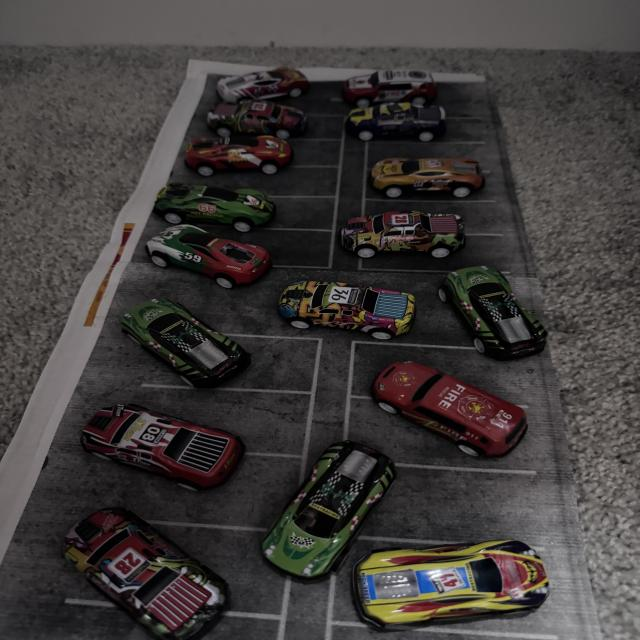car: (19, 520, 288, 640), (68, 300, 282, 394), (70, 399, 266, 498), (348, 548, 582, 625), (224, 275, 433, 360), (378, 354, 547, 450), (298, 427, 396, 583), (103, 117, 311, 187), (136, 228, 302, 297), (427, 264, 543, 348), (338, 207, 502, 264), (138, 181, 287, 235), (181, 96, 354, 138), (329, 106, 459, 146), (205, 55, 310, 101), (344, 62, 457, 104), (357, 159, 507, 189)
